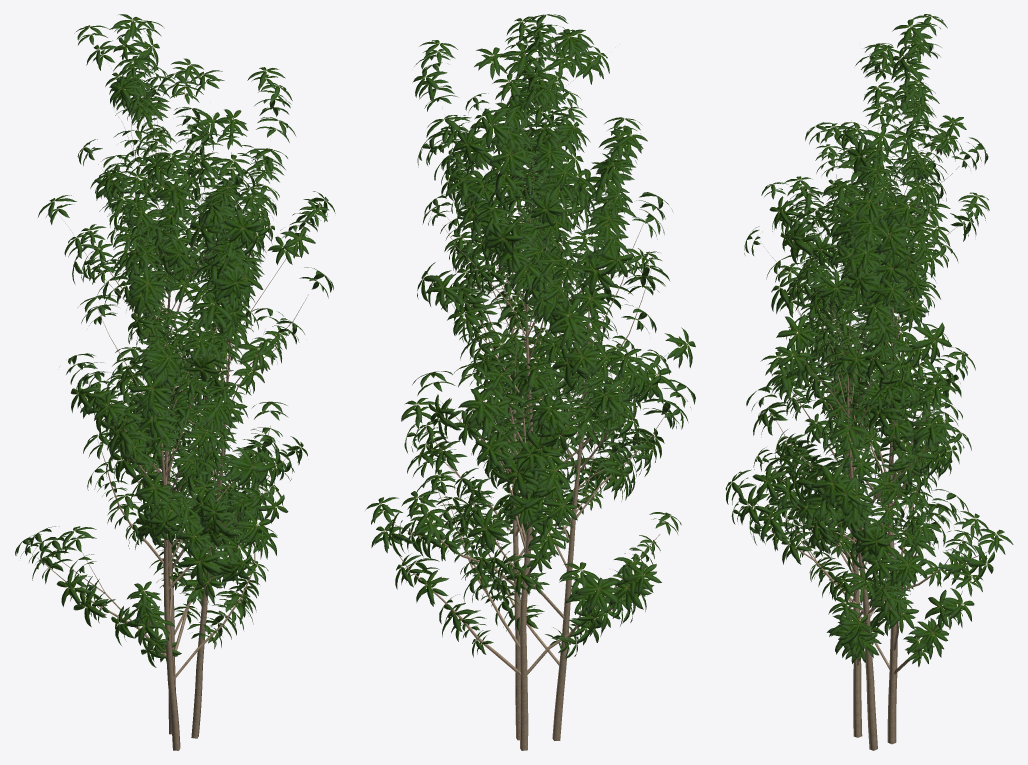
File: sirakashi_nocolor.fbx
3 views of the same model, side by side, from view 1: azimuth 30°, elevation 25°; view 2: azimuth 150°, elevation 25°; view 3: azimuth 270°, elevation 25° (orthographic). The views are drawn at different scales.
Visible parts, largest first — view 1: Tree, Tree.001, Tree.002, n229.598, n229.361, n229.310, n229.443, n229.669, n229.446, n229.686, n229.682, n229.348 (+2 smaller); view 2: Tree.001, Tree, Tree.002, n229.477, n229.092, n229.336, n229.447, n229.166, n229.253, n229.234, n229.363, n229.215 (+11 smaller); view 3: Tree.002, Tree.001, Tree, n229.510, n229.606, n229.406, n229.647, n229.514, n229.621, n229.023, n229.620, n229.500 (+12 smaller).
Part boxes in pixels (bbox=[...]): Tree: bbox=[37, 180, 255, 750]; Tree.001: bbox=[88, 65, 267, 734]; Tree.002: bbox=[120, 152, 310, 738]; n229.598: bbox=[177, 539, 223, 586]; n229.361: bbox=[130, 371, 171, 412]; n229.310: bbox=[127, 266, 168, 306]; n229.443: bbox=[134, 471, 175, 509]; n229.669: bbox=[188, 294, 234, 329]; n229.446: bbox=[142, 342, 181, 383]; n229.686: bbox=[233, 509, 271, 547]; n229.682: bbox=[223, 208, 262, 244]; n229.348: bbox=[105, 420, 147, 456]; Tree.001: bbox=[398, 54, 660, 750]; Tree: bbox=[466, 152, 670, 740]; Tree.002: bbox=[392, 71, 636, 740]; n229.477: bbox=[574, 575, 620, 613]; n229.092: bbox=[458, 389, 501, 426]; n229.336: bbox=[467, 507, 508, 550]; n229.447: bbox=[548, 306, 594, 343]; n229.166: bbox=[497, 450, 540, 497]; n229.253: bbox=[530, 459, 571, 496]; n229.234: bbox=[470, 108, 513, 149]; n229.363: bbox=[586, 207, 629, 245]; n229.215: bbox=[487, 137, 531, 178]; Tree.002: bbox=[748, 228, 988, 750]; Tree.001: bbox=[790, 78, 965, 744]; Tree: bbox=[770, 120, 941, 737]; n229.510: bbox=[909, 322, 951, 364]; n229.606: bbox=[776, 314, 817, 354]; n229.406: bbox=[810, 463, 853, 507]; n229.647: bbox=[910, 415, 954, 450]; n229.514: bbox=[874, 219, 909, 255]; n229.621: bbox=[753, 505, 795, 542]; n229.023: bbox=[887, 553, 926, 585]; n229.620: bbox=[818, 269, 854, 305]; n229.500: bbox=[752, 464, 788, 502].
Size of the model in its own units: 119 by 299 by 111.
2 materials, 2 textured.
